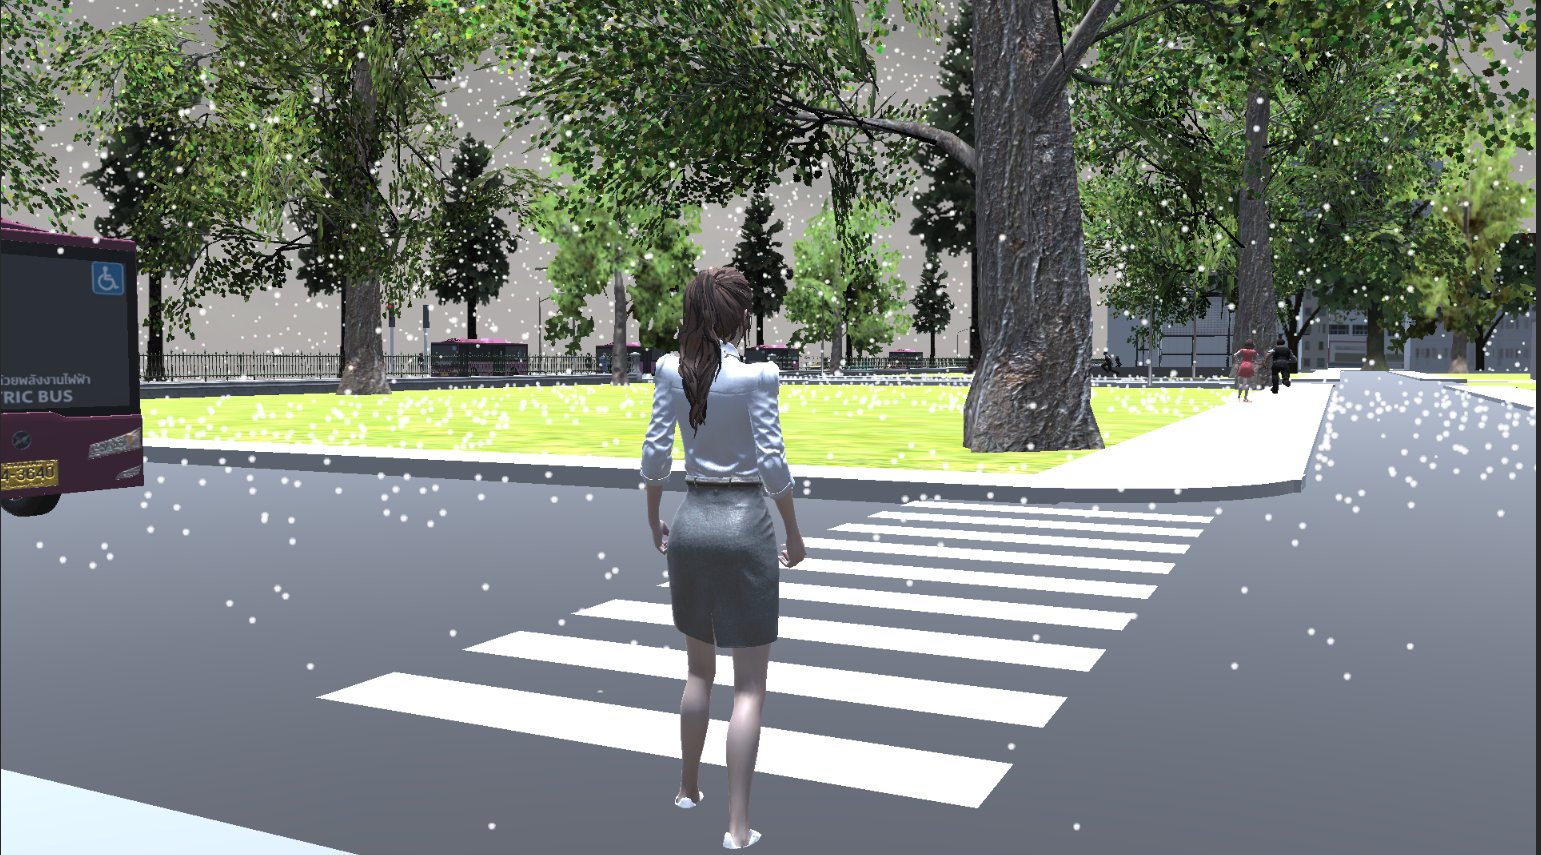pedestrian: (623, 255, 790, 851), (1268, 325, 1300, 394), (1226, 334, 1254, 411)
